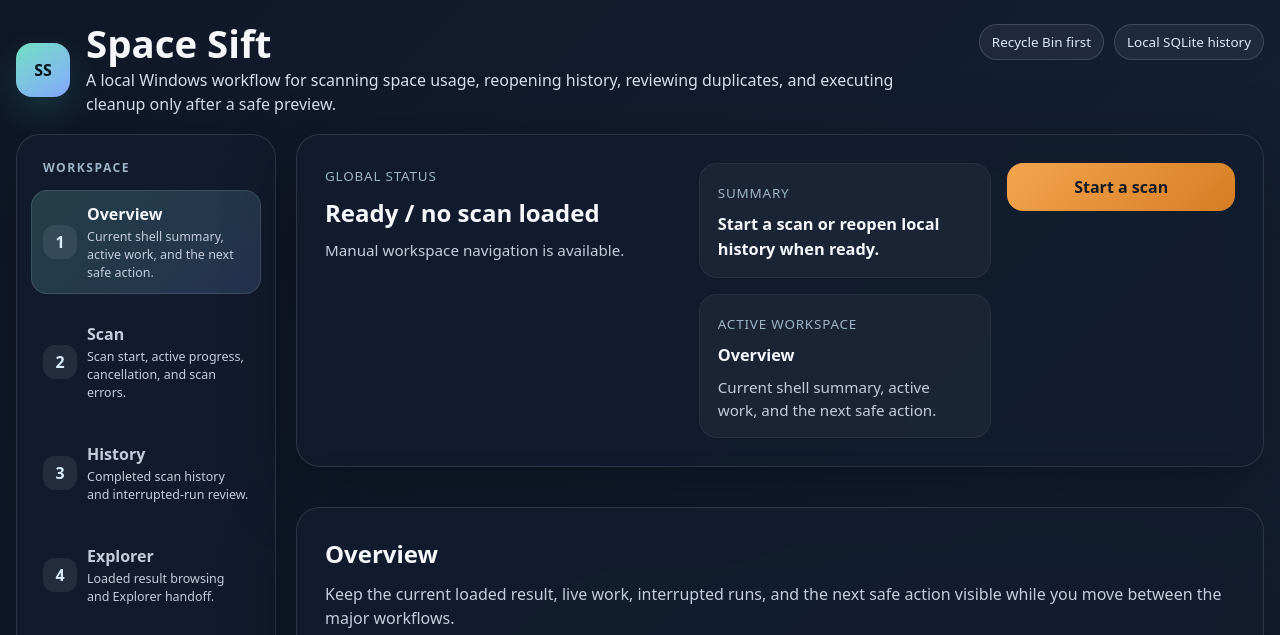
Space Sift scan and history flow › does not overwrite a fast completed scan back to running after start resolves
Click the tab "Scan" at x=146, y=362, box [31,310,261,414]
(page scrolled)
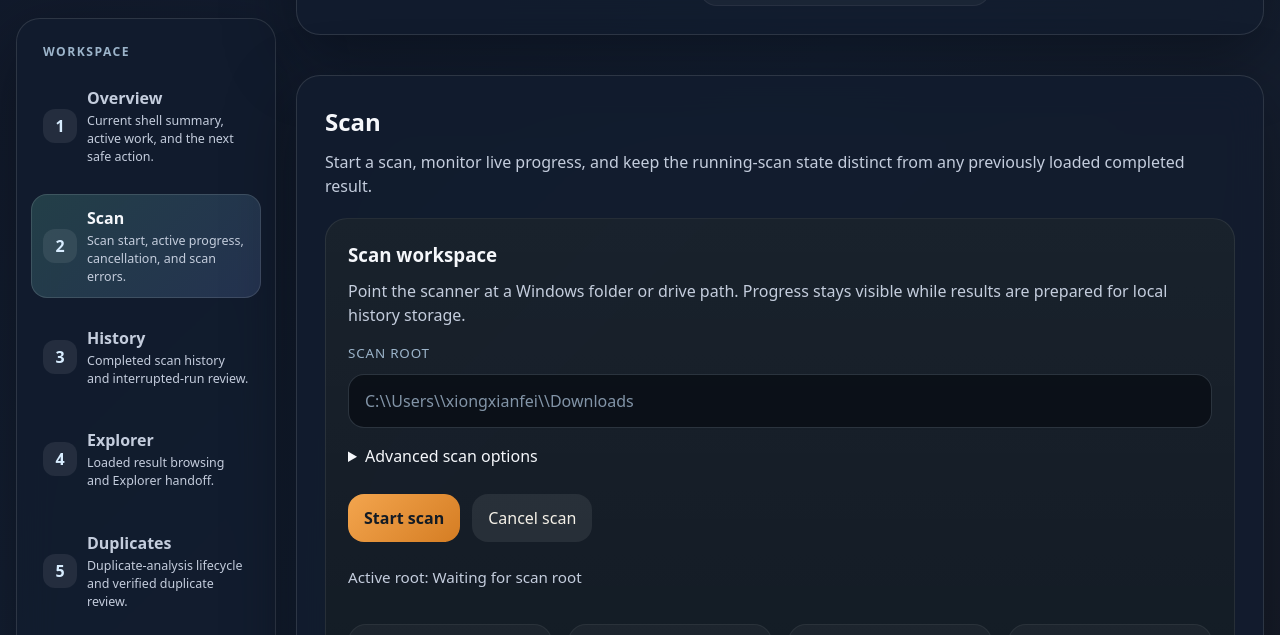
Expected: the tab "Scan" is selected, [31,194,261,298]
Type "C:\\Users\\xiongxianfei\\Videos" into the field labelled "Scan root" at x=780, y=401, box [348,374,1212,428]
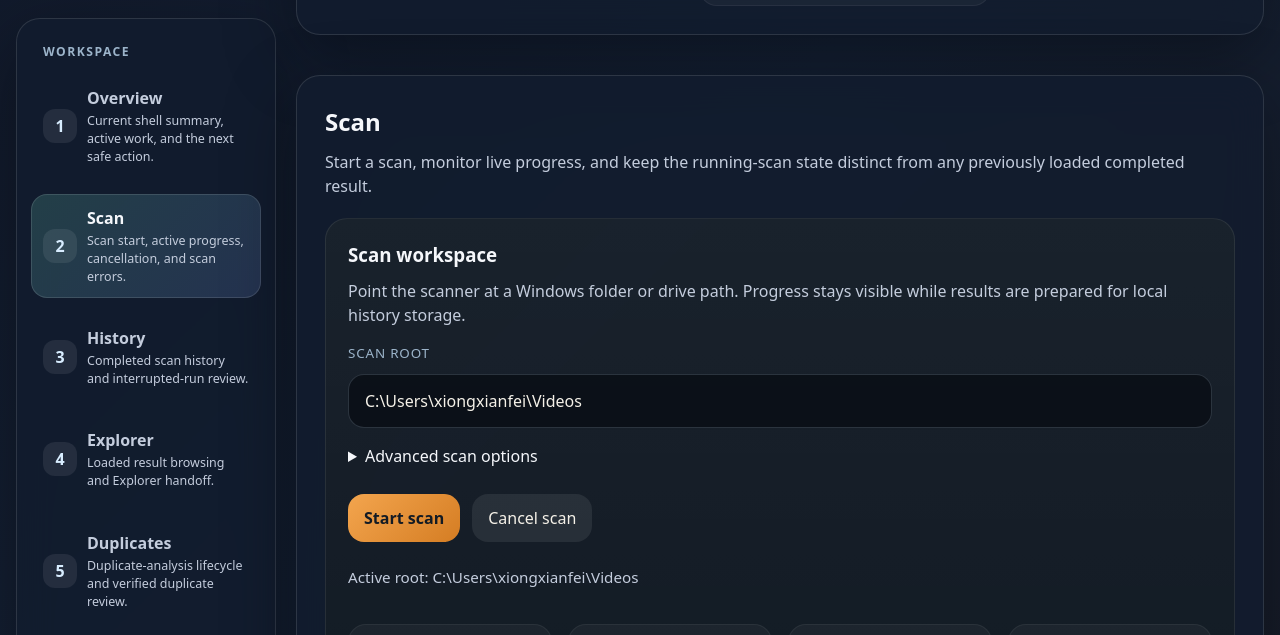
Click the button "Start scan" at x=404, y=518, box [348,494,460,542]
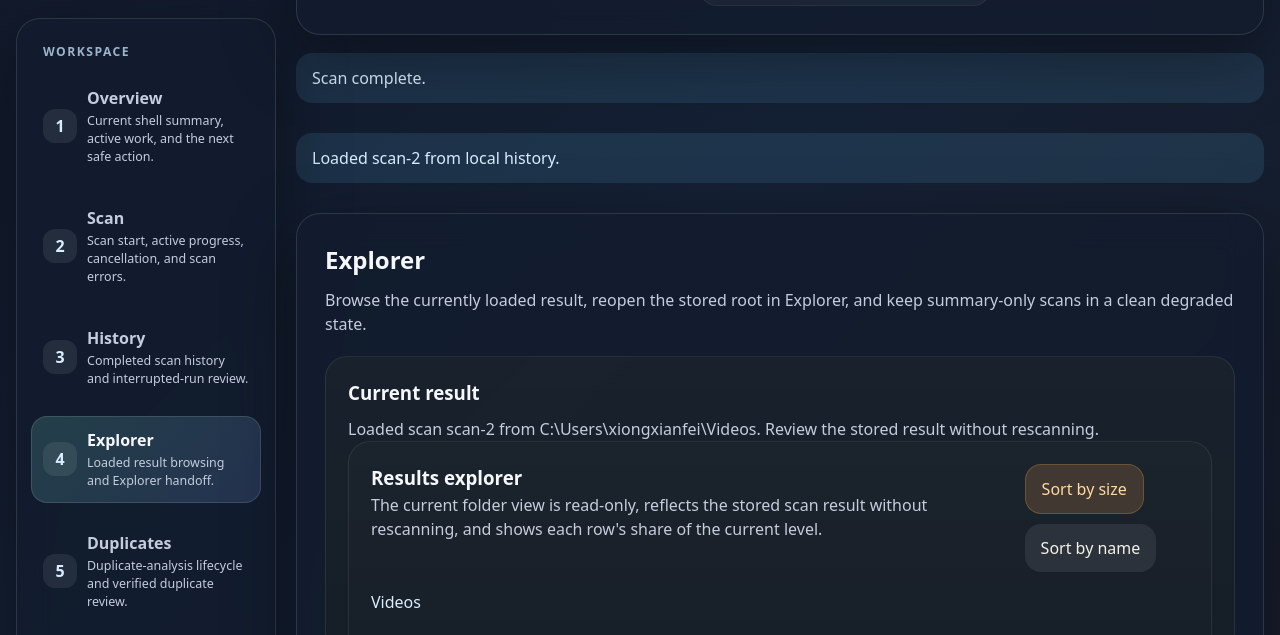
Expected: the heading "Current result" is shown, [348,380,480,405]
Expected: the text "Loaded scan scan-2 from C:\\Users\\xiongxianfei\\Videos" is shown, [348,418,1212,442]
